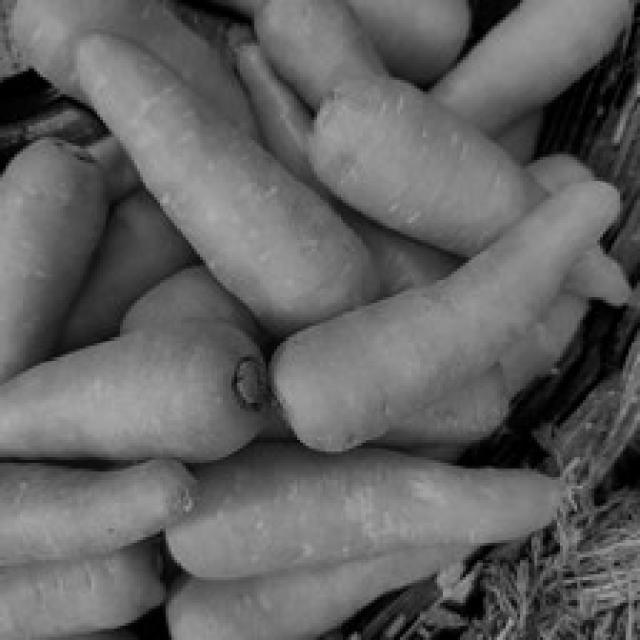Fresh_Carrot: (285, 177, 632, 441), (63, 36, 354, 322), (186, 476, 614, 570)
